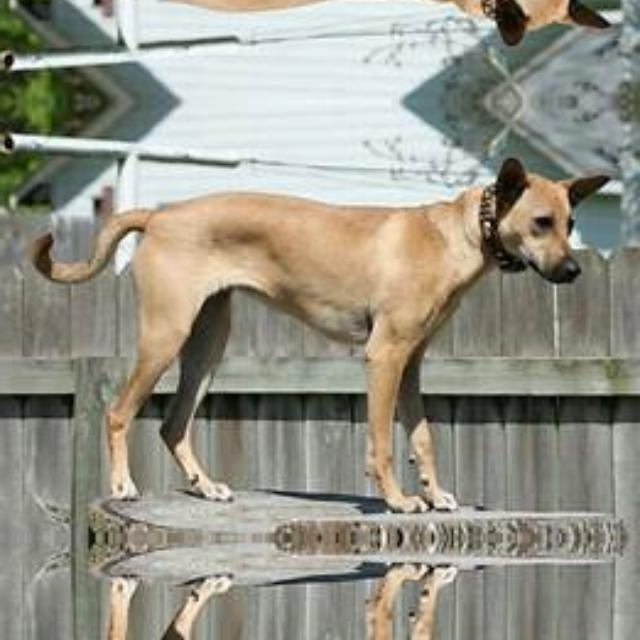dog: (10, 148, 590, 501), (10, 574, 591, 640), (10, 0, 591, 54)
